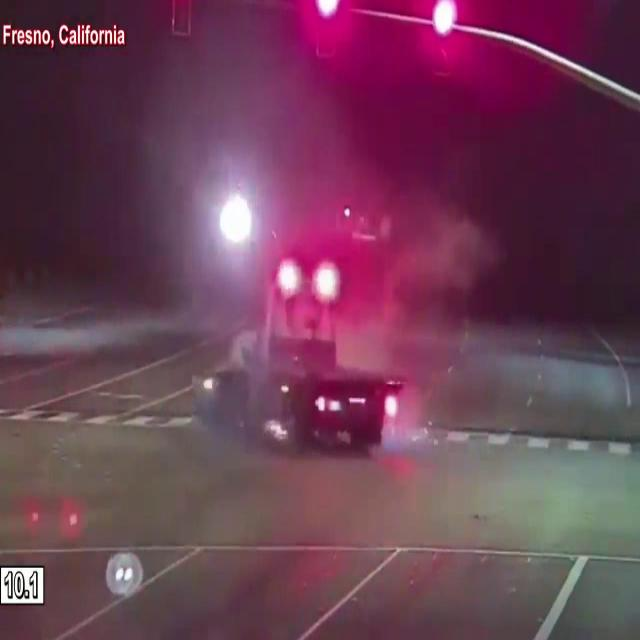accident: (193, 256, 403, 484)
